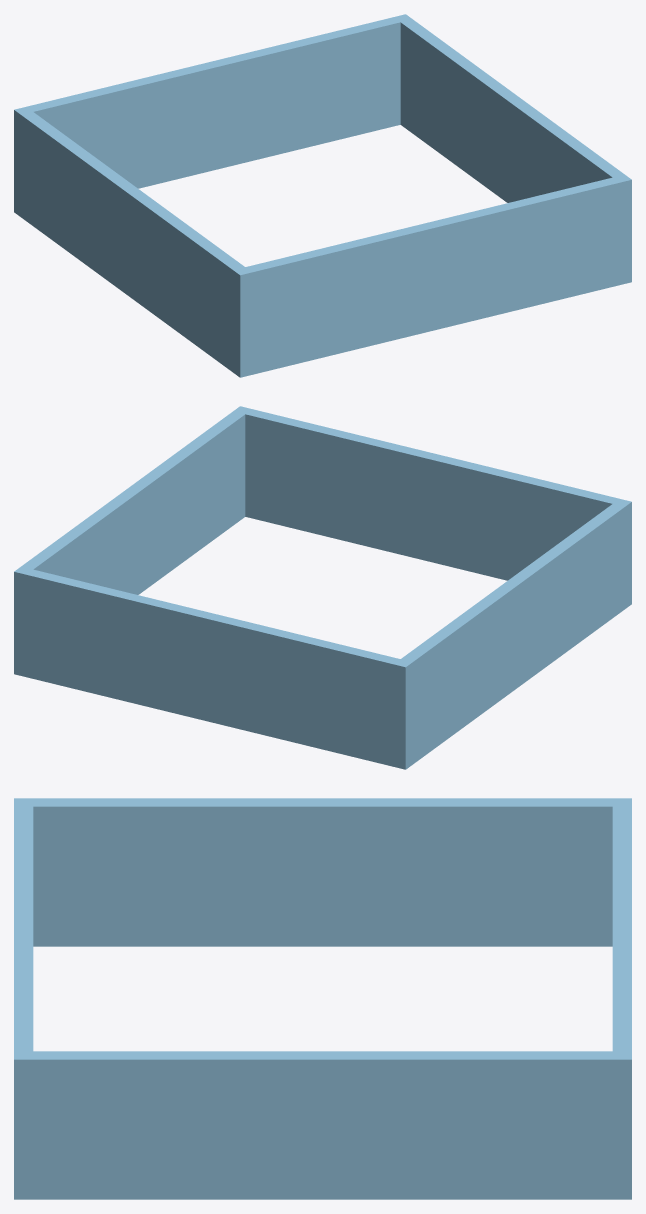
The model's file is wwt_walls.dae.
3 renders of one model, top to bottom at view 1: azimuth 30°, elevation 25°; view 2: azimuth 150°, elevation 25°; view 3: azimuth 270°, elevation 25°, orthographic. The views are drawn at different scales.
Parts seen in each view (by area): view 1: ID2; view 2: ID2; view 3: ID2.
Part boxes in pixels (x1,y1,x2,y2): ID2: (14,14,631,377); ID2: (14,406,631,769); ID2: (14,798,631,1199).
Size of the model in its own units: 32 by 32 by 8.
